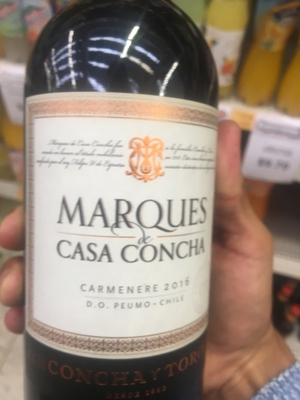marques de casa concha carmenere: (23, 18, 216, 400)
